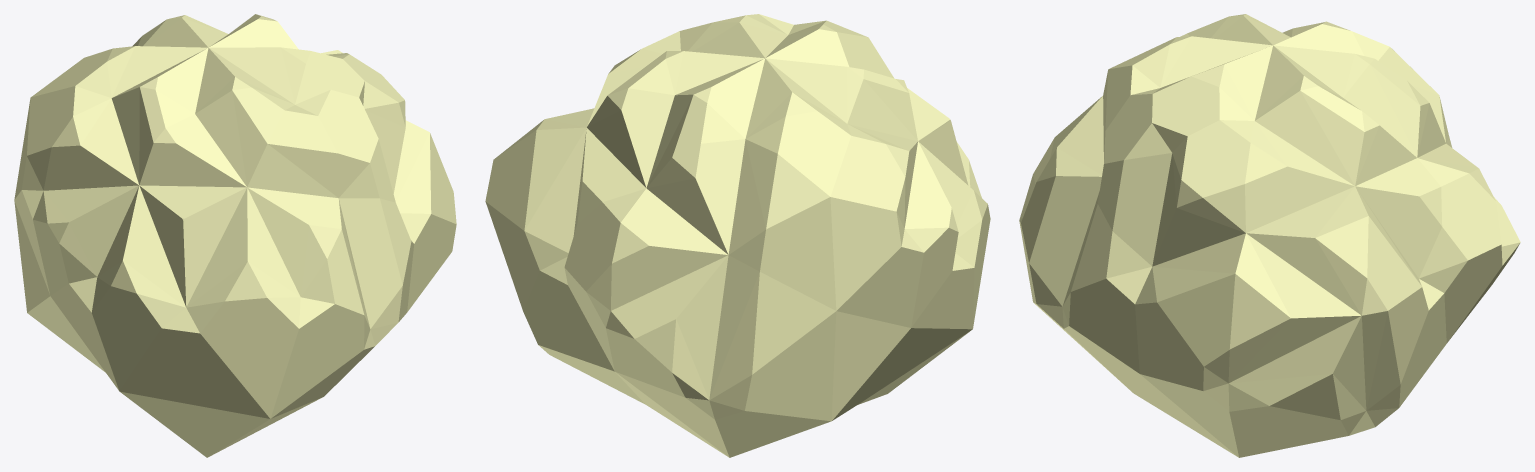
File: CoralBrain.FBX
3 views of the same model, side by side, from view 1: azimuth 30°, elevation 25°; view 2: azimuth 150°, elevation 25°; view 3: azimuth 270°, elevation 25° (orthographic). The views are drawn at different scales.
Parts seen in each view (by area): view 1: BrainCoral; view 2: BrainCoral; view 3: BrainCoral.
Part boxes in pixels (x1,y1,x2,y2): BrainCoral: (14,14,456,457); BrainCoral: (485,14,990,457); BrainCoral: (1019,14,1520,457).
Size of the model in its own units: 35.03 by 30.03 by 36.66.
